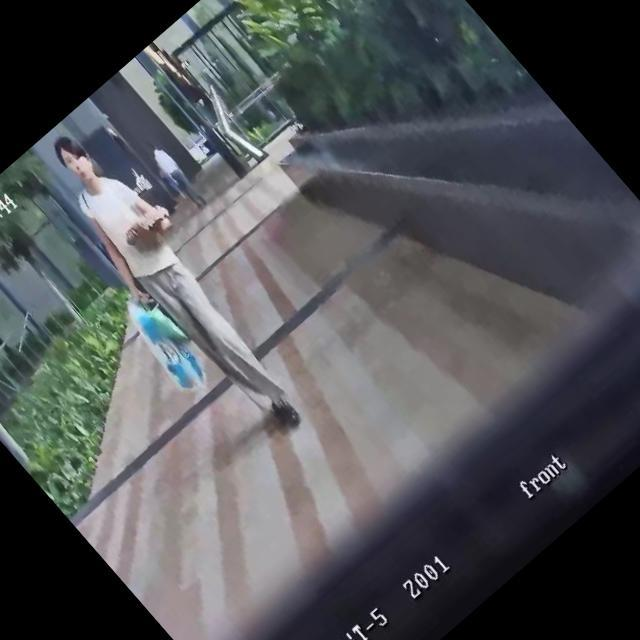person: (20, 114, 330, 452), (144, 137, 212, 212)
